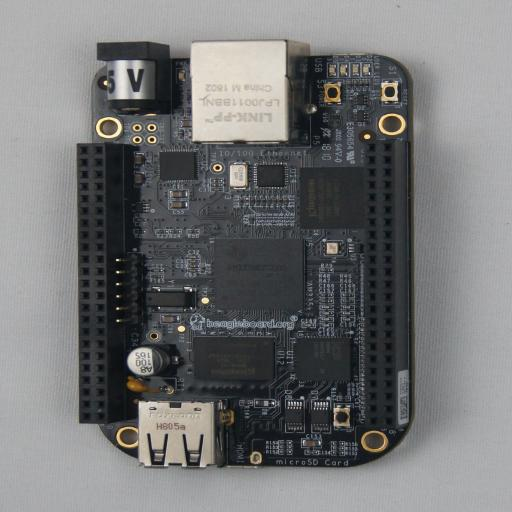Beaglebone Black: (77, 40, 419, 470)
